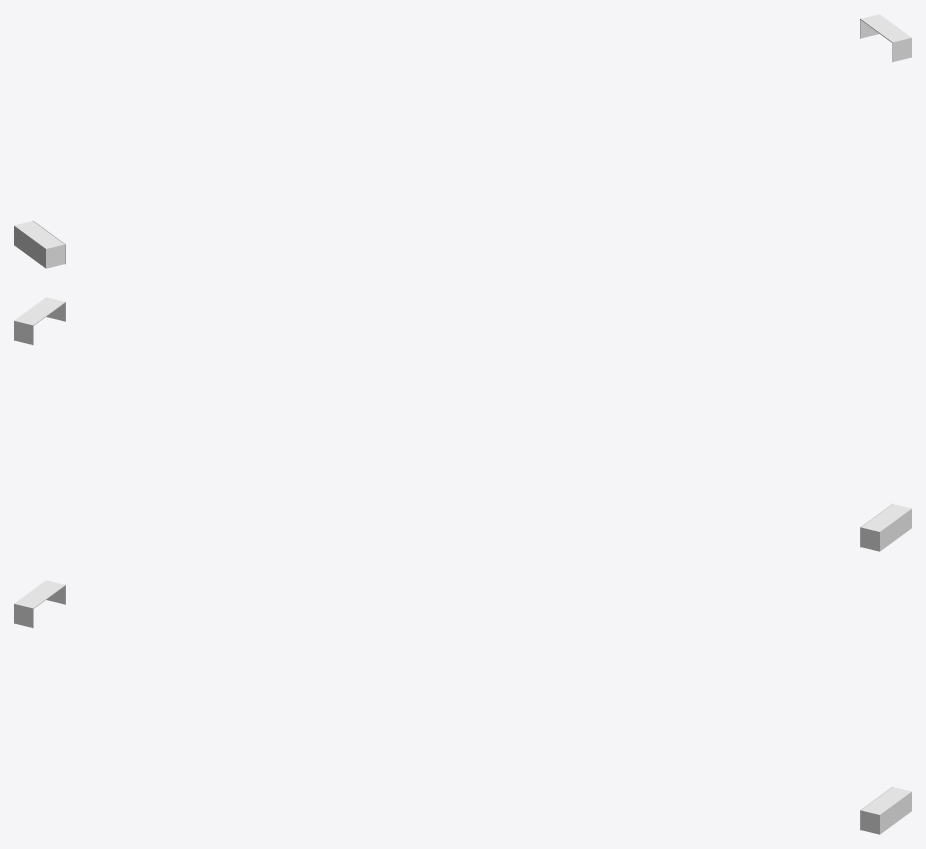
Rendered from goals.glb.
3 renders of one model, top to bottom at view 1: azimuth 30°, elevation 25°; view 2: azimuth 150°, elevation 25°; view 3: azimuth 330°, elevation 25°, orthographic.
Visible parts, largest first — view 1: goals; view 2: goals; view 3: goals.
Part boxes in pixels (x1,y1,x2,y2): goals: [14, 14, 911, 268]; goals: [14, 297, 911, 551]; goals: [14, 580, 911, 834].
Size of the model in its own units: 115 by 2.54 by 7.52.
Materials: 1 (1 with a texture image).
